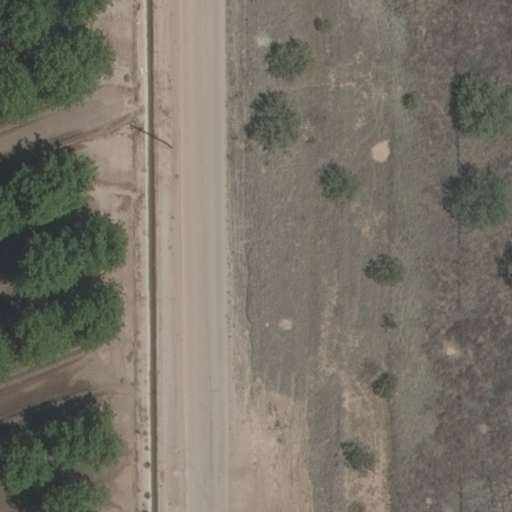DT: (147, 128, 180, 155)
